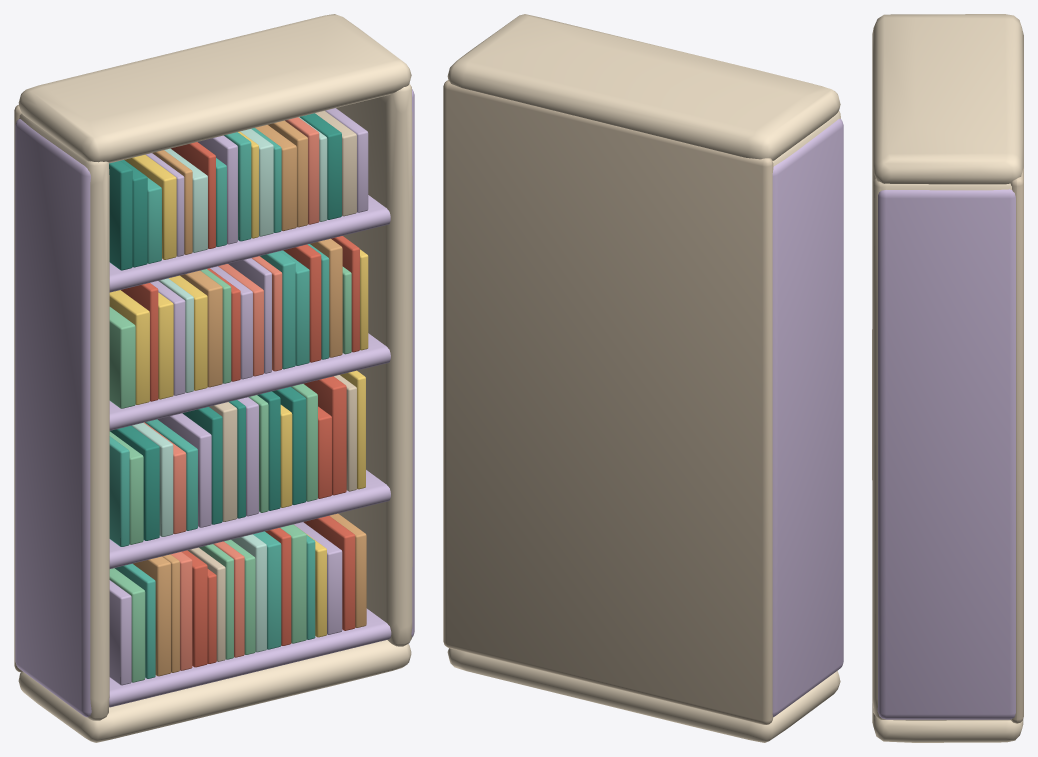
Rendered from bookshelf_c.glb.
3 views of the same model, side by side, from view 1: azimuth 30°, elevation 25°; view 2: azimuth 150°, elevation 25°; view 3: azimuth 270°, elevation 25° (orthographic). The views are drawn at different scales.
Visible parts, largest first — view 1: body; view 2: body; view 3: body.
Boxes of the visible parts, box(x1,y1,x2,y2) form: body: box(14, 14, 414, 742); body: box(443, 14, 843, 742); body: box(872, 14, 1023, 742).
Size of the model in its own units: 0.73 by 1.28 by 0.3.
